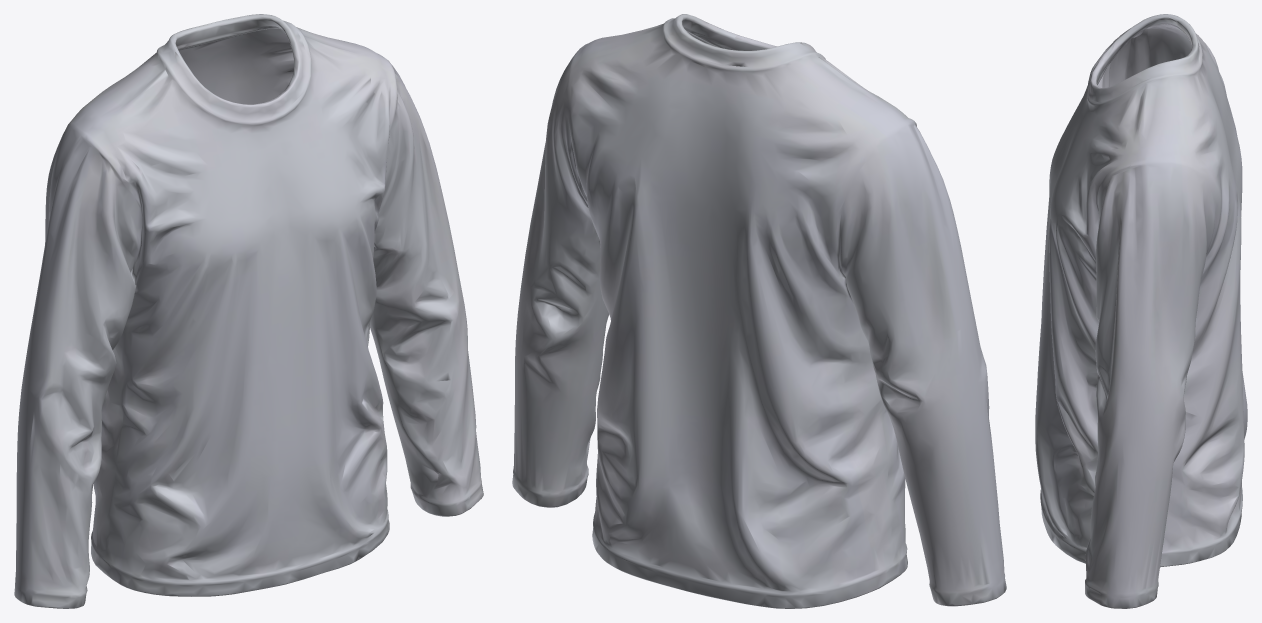
Rendered from tshirt-long.glb.
3 views of the same model, side by side, from view 1: azimuth 30°, elevation 25°; view 2: azimuth 150°, elevation 25°; view 3: azimuth 270°, elevation 25° (orthographic). The views are drawn at different scales.
Visible parts, largest first — view 1: material; view 2: material; view 3: material.
Boxes of the visible parts, x1,y1,x2,y2 form: material: (14, 14, 483, 608); material: (512, 14, 1006, 608); material: (1035, 14, 1247, 608).
Size of the model in its own units: 0.8414 by 0.8831 by 0.3591.
1 material, 1 textured.
